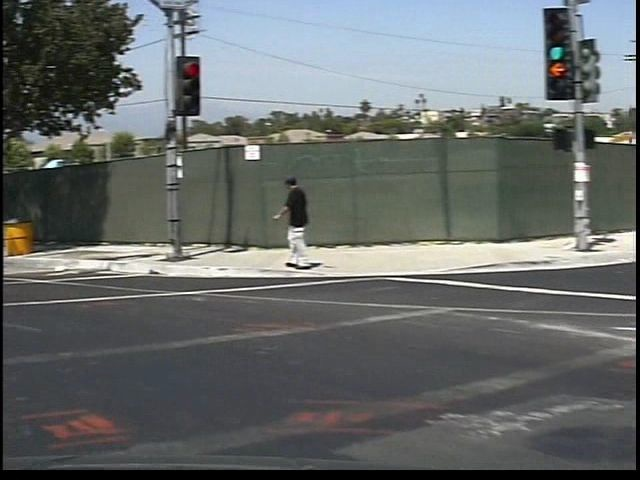person: (264, 169, 314, 285)
